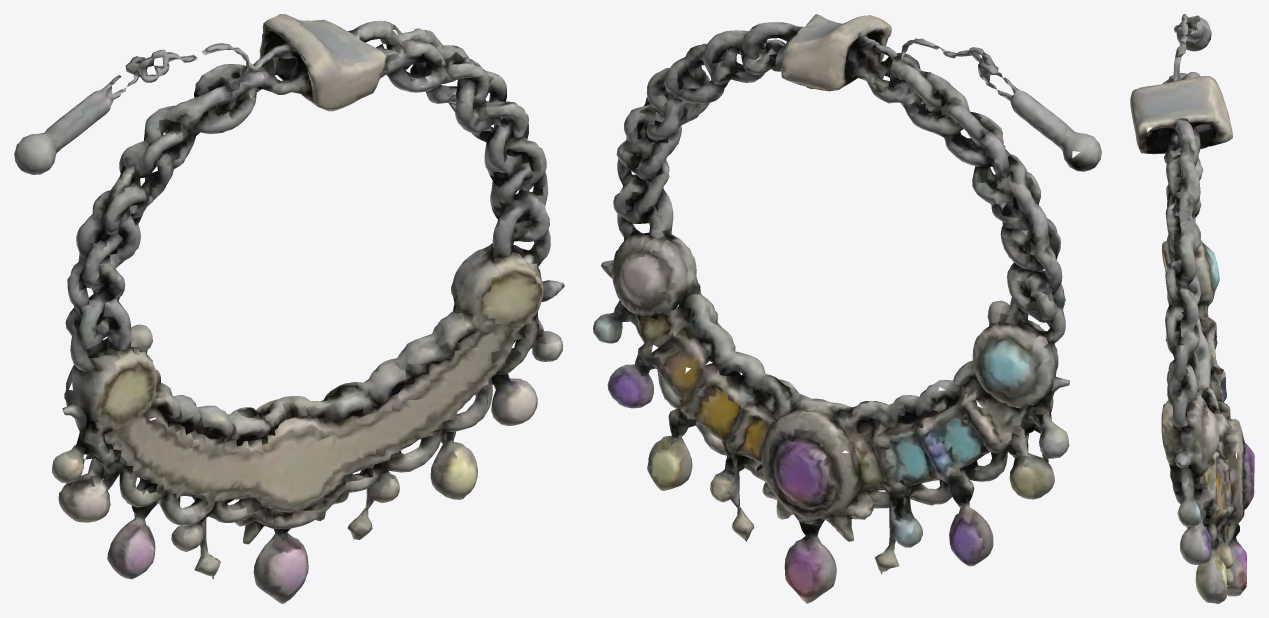
The model's file is boho_kupe.glb.
3 views of the same model, side by side, from view 1: azimuth 30°, elevation 25°; view 2: azimuth 150°, elevation 25°; view 3: azimuth 270°, elevation 25° (orthographic). The views are drawn at different scales.
Parts seen in each view (by area): view 1: boho_kupe; view 2: boho_kupe; view 3: boho_kupe.
Part boxes in pixels (box(x1,y1,x2,y2)): boho_kupe: box(14, 14, 564, 603); boho_kupe: box(593, 14, 1101, 603); boho_kupe: box(1130, 14, 1254, 603).
Size of the model in its own units: 0.3748 by 0.402 by 0.0877.
1 material, 1 textured.
